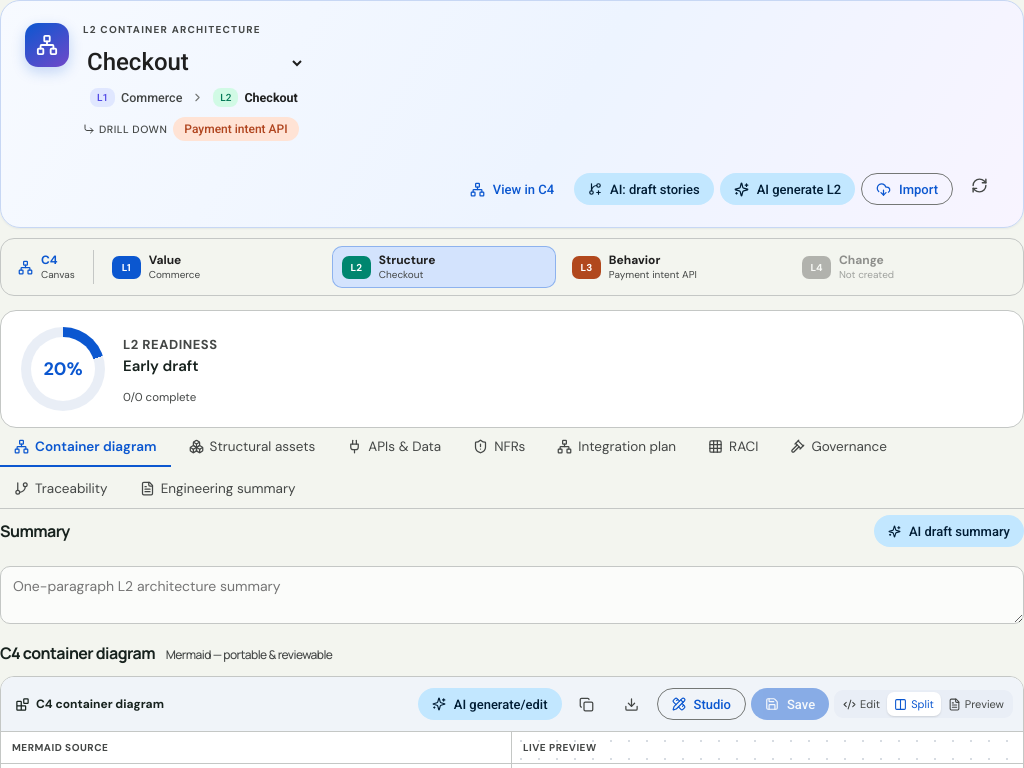
Test case: L2Architecture AI draft summary › drafts the summary from workspace context and fills the field for review
Step 1. Click the button "AI draft summary" → (949, 531), box [874, 515, 1023, 547]
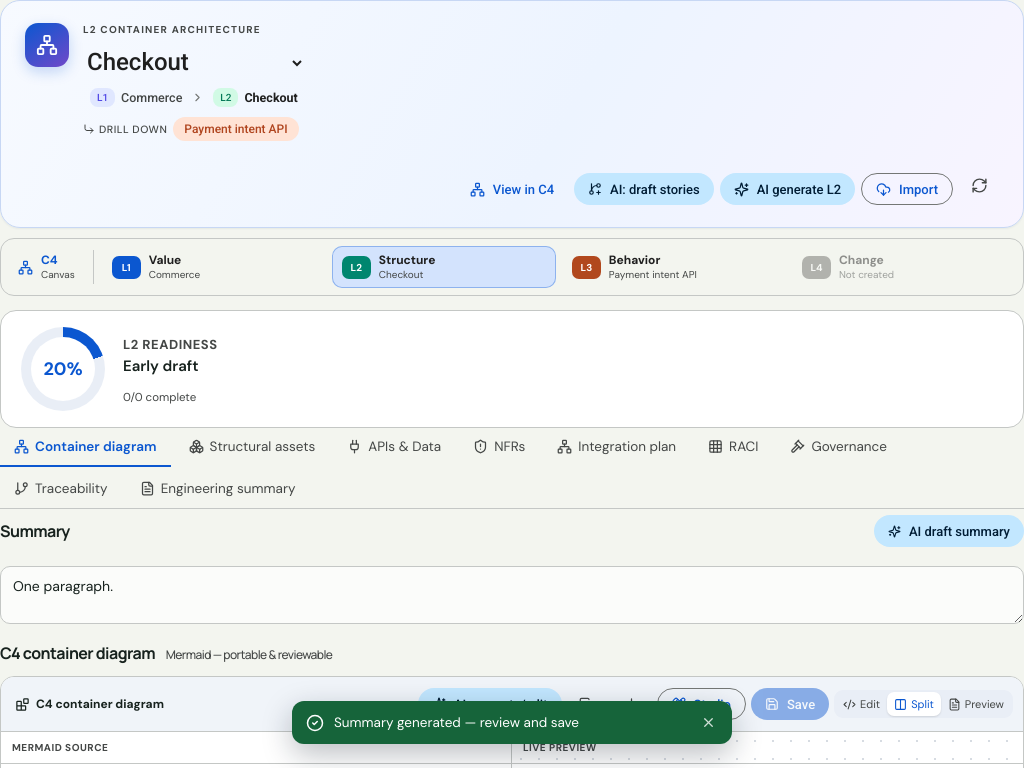
Now the text box with placeholder "One-paragraph L2 architecture summary" holds "One paragraph.", box [0, 566, 1023, 624]
